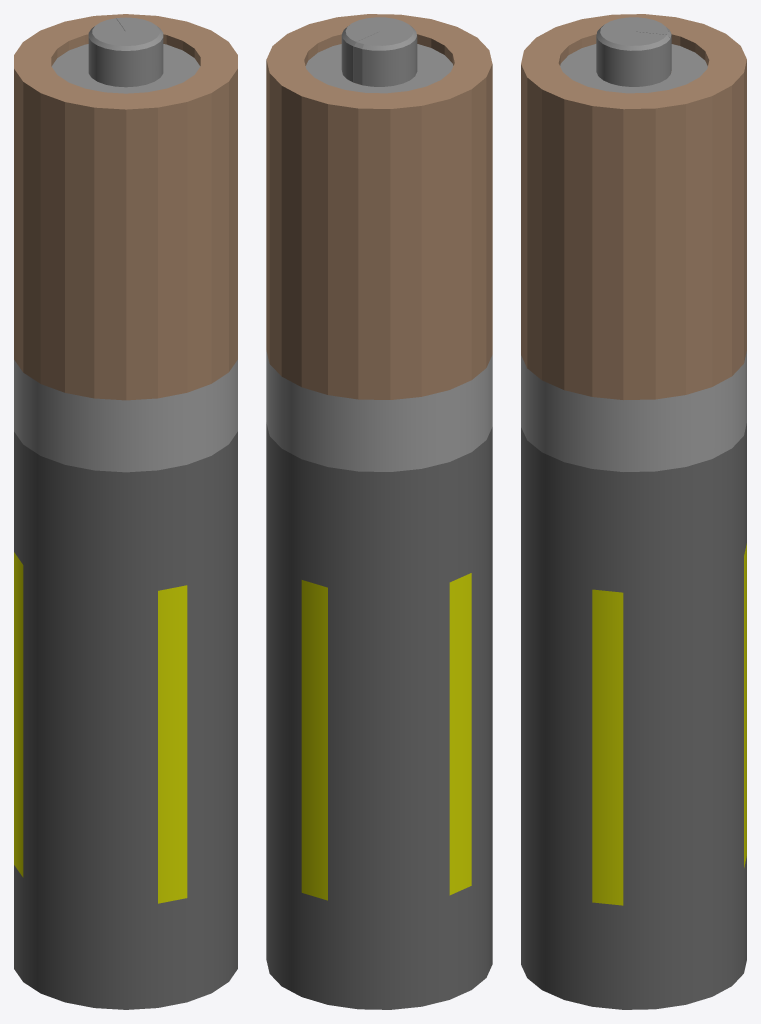
File: Medium Small Battery.fbx
The picture shows the model from 3 angles, left to right: view 1: azimuth 30°, elevation 25°; view 2: azimuth 150°, elevation 25°; view 3: azimuth 270°, elevation 25°; orthographic projection.
Parts seen in each view (by area): view 1: Battery; view 2: Battery; view 3: Battery.
Part boxes in pixels (box(x1,y1,x2,y2)): Battery: box(14, 14, 237, 1009); Battery: box(266, 14, 492, 1009); Battery: box(521, 14, 746, 1009).
Size of the model in its own units: 1.17 by 5.44 by 1.18.
